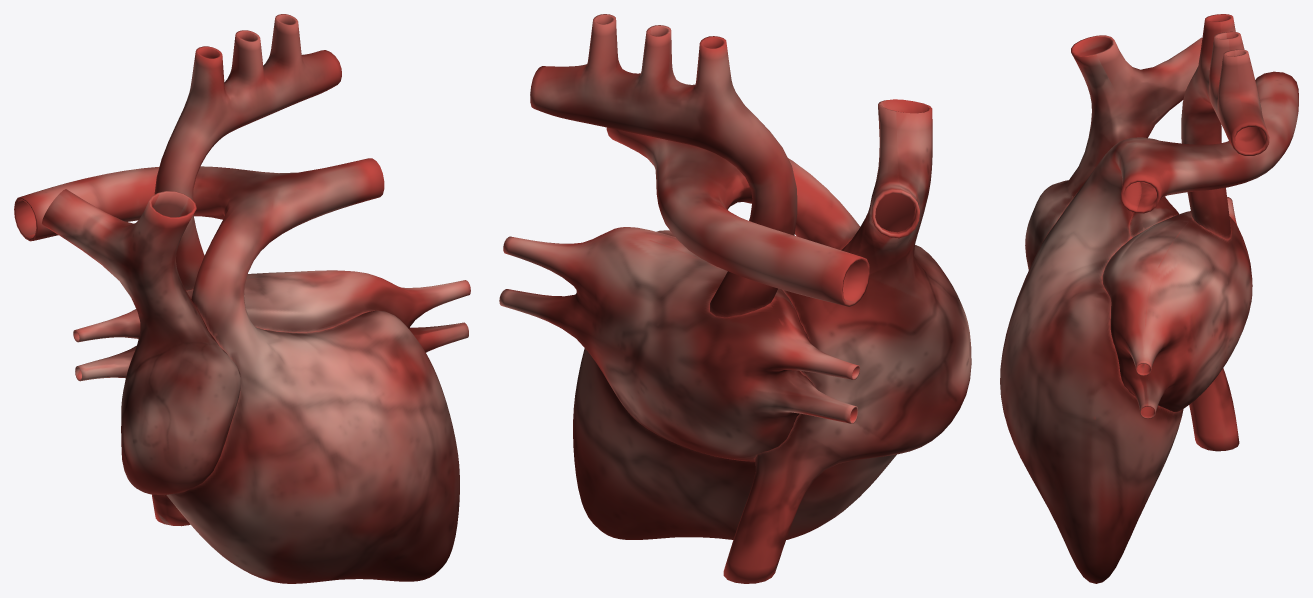
Rendered from heart.glb.
3 renders of one model, left to right at view 1: azimuth 30°, elevation 25°; view 2: azimuth 150°, elevation 25°; view 3: azimuth 270°, elevation 25°, orthographic. The views are drawn at different scales.
Visible parts, largest first — view 1: heart combined; view 2: heart combined; view 3: heart combined.
Part boxes in pixels (x1,y1,x2,y2): heart combined: (14, 14, 470, 583); heart combined: (499, 14, 971, 583); heart combined: (1000, 14, 1298, 583).
Bounding box in the file's own units: 1.48 × 1.87 × 1.02.
Materials: 1 (1 with a texture image).
